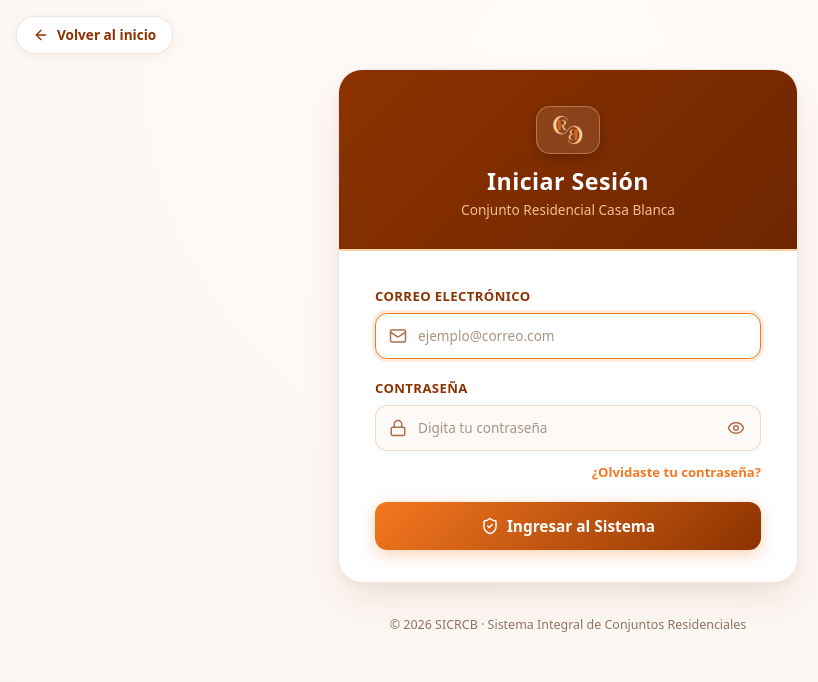
Test: Pruebas de Caja Negra - Login y Autenticación (UI) › CP-UI-08: Debe rechazar credenciales inválidas con POST (401) y mostrar la alerta de error
This screenshot has width=818, height=682.
In the field with placeholder "ejemplo@correo.com": point(568, 336) [375,313,761,359], type "erroneo@casablanca.com"
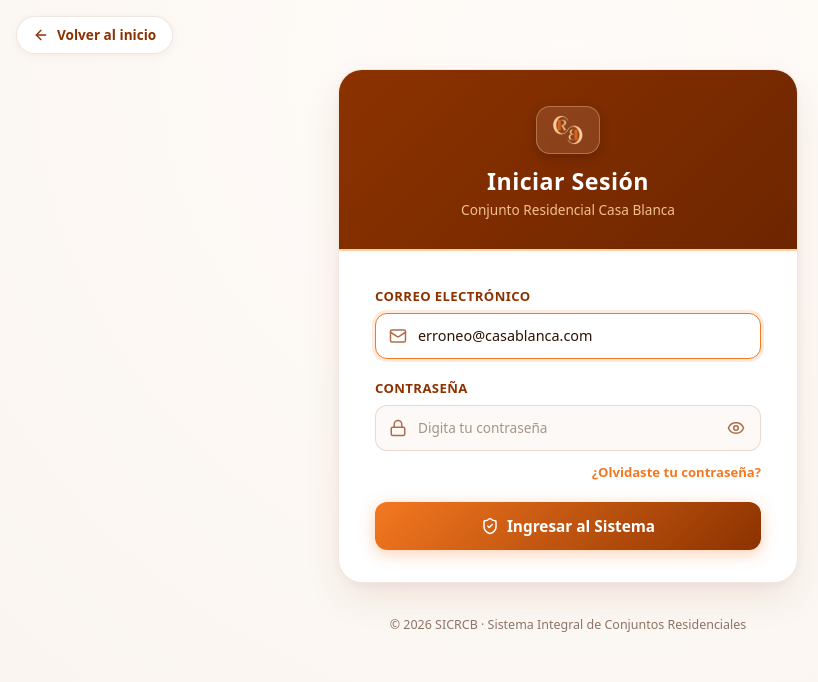
In the password field with placeholder "Digita tu contraseña": point(568, 428) [375,405,761,451], type "ClaveIncorrecta"
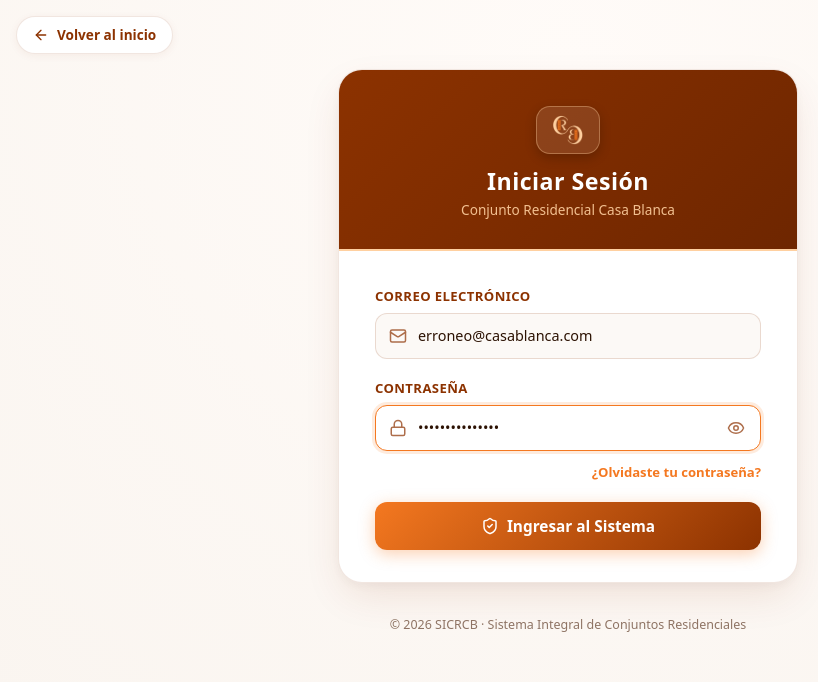
Click the button "Ingresar al Sistema": point(568, 527) [375,503,761,551]
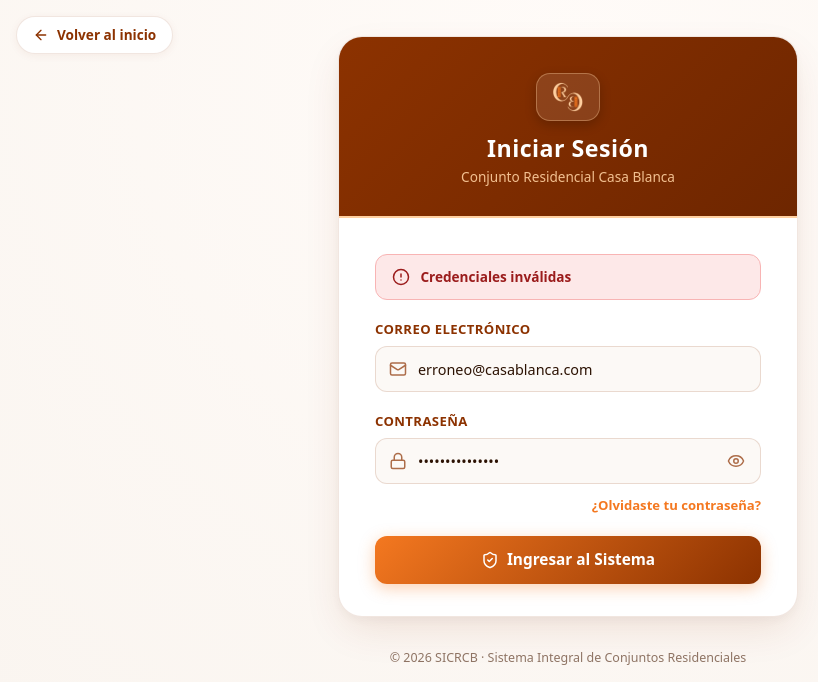
Expected: the text "Credenciales inválidas" is shown, [420,267,571,287]
